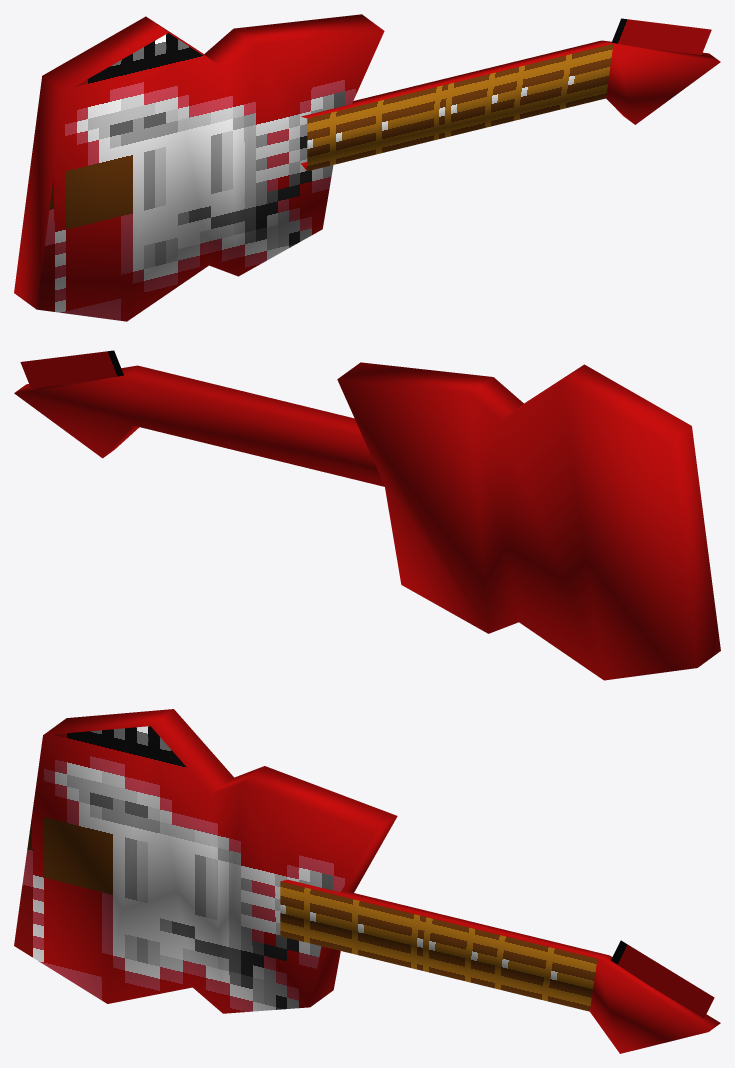
The picture shows the model from 3 angles, top to bottom: view 1: azimuth 30°, elevation 25°; view 2: azimuth 150°, elevation 25°; view 3: azimuth 330°, elevation 25°; orthographic projection. The views are drawn at different scales.
Parts seen in each view (by area): view 1: 2798item2798; view 2: 2798item2798; view 3: 2798item2798.
Boxes of the visible parts, x1=… form: 2798item2798: x1=14, y1=14, x2=720, y2=321; 2798item2798: x1=14, y1=350, x2=720, y2=680; 2798item2798: x1=14, y1=709, x2=720, y2=1053.
Bounding box in the file's own units: 1.86 × 0.7295 × 0.1392.
1 material, 1 textured.
